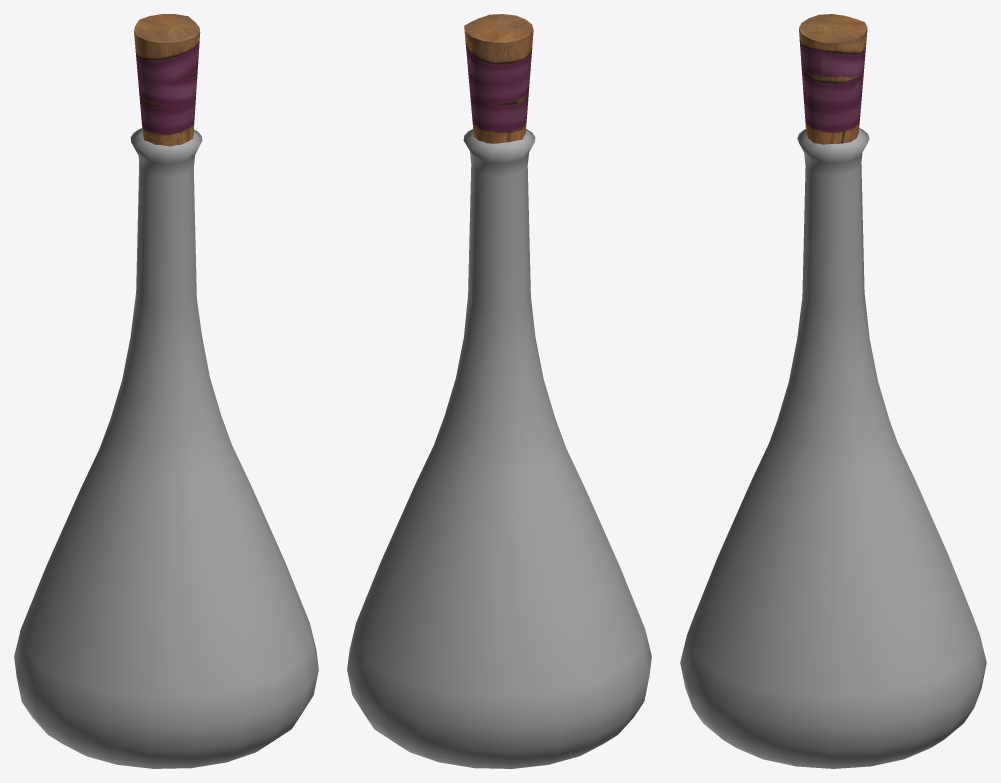
The model's file is SM_Potion_Props_Bottle_Big_02_B.fbx.
3 renders of one model, left to right at view 1: azimuth 30°, elevation 25°; view 2: azimuth 150°, elevation 25°; view 3: azimuth 270°, elevation 25°, orthographic.
Visible parts, largest first — view 1: SM_Potion_Props_Bottle_Big_02_B_LOD0; view 2: SM_Potion_Props_Bottle_Big_02_B_LOD0; view 3: SM_Potion_Props_Bottle_Big_02_B_LOD0.
Part boxes in pixels (box(x1,y1,x2,y2)): SM_Potion_Props_Bottle_Big_02_B_LOD0: box(14, 14, 318, 768); SM_Potion_Props_Bottle_Big_02_B_LOD0: box(347, 14, 651, 768); SM_Potion_Props_Bottle_Big_02_B_LOD0: box(680, 14, 986, 768).
Size of what is drawn, in the model's own units: 25.74 by 64.51 by 25.74.
